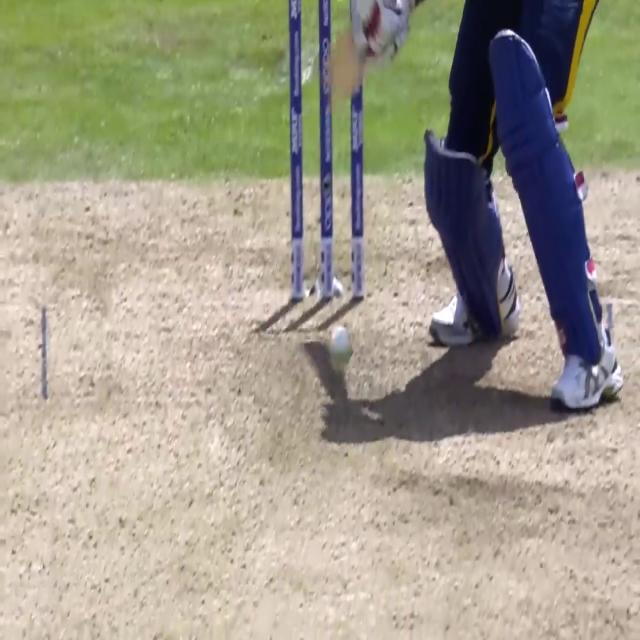ball: (328, 326, 352, 374)
